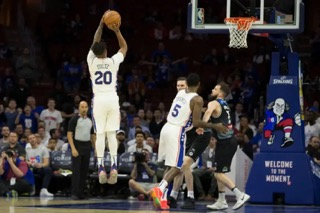Jumpshot: (93, 9, 127, 52)
